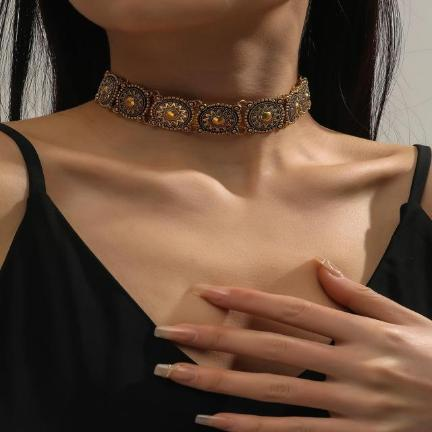Nail: (154, 326, 197, 343), (154, 364, 196, 381), (314, 255, 345, 277), (191, 284, 229, 300), (195, 415, 235, 428)
